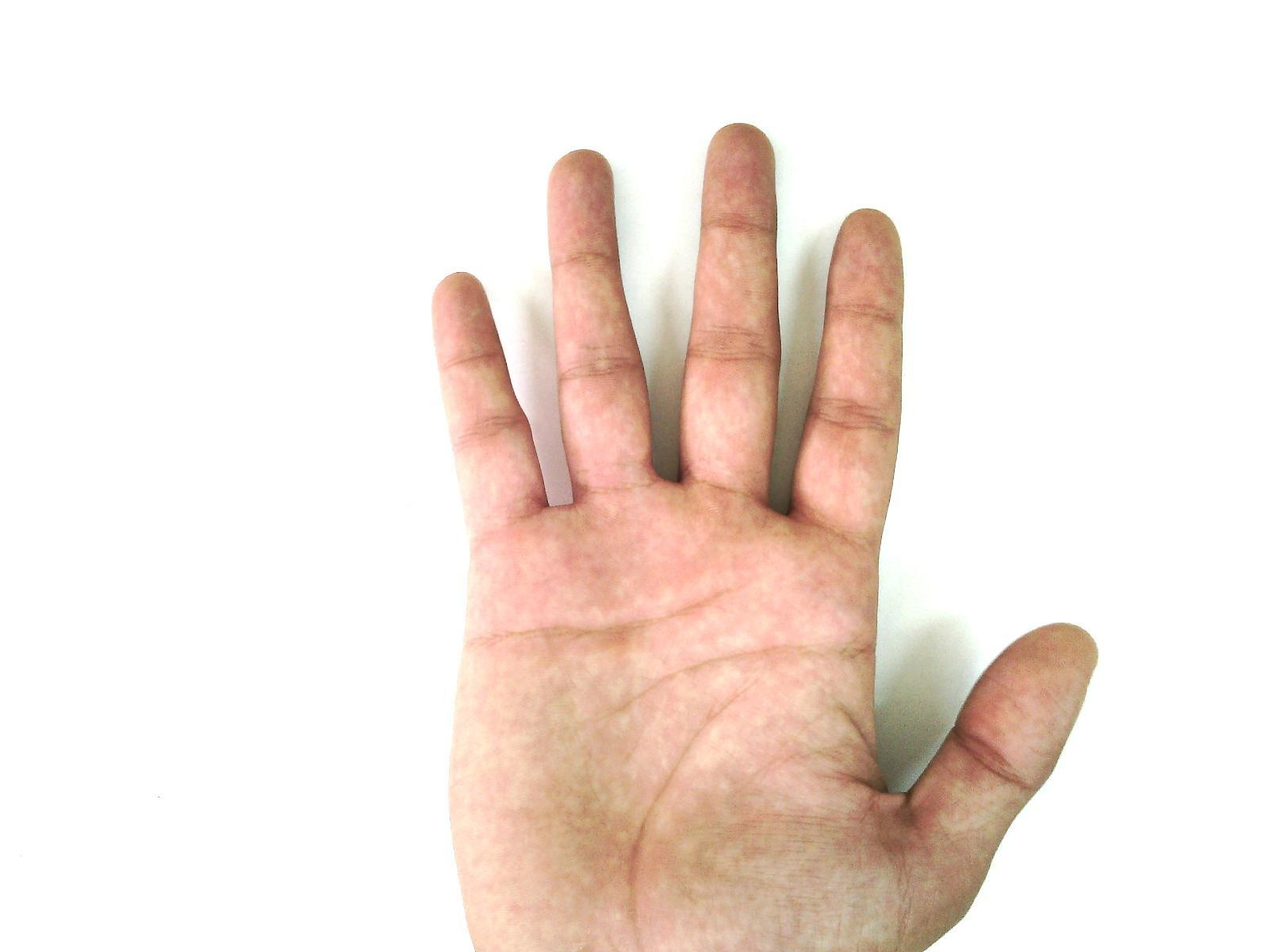open_palm: (427, 121, 1100, 952)
